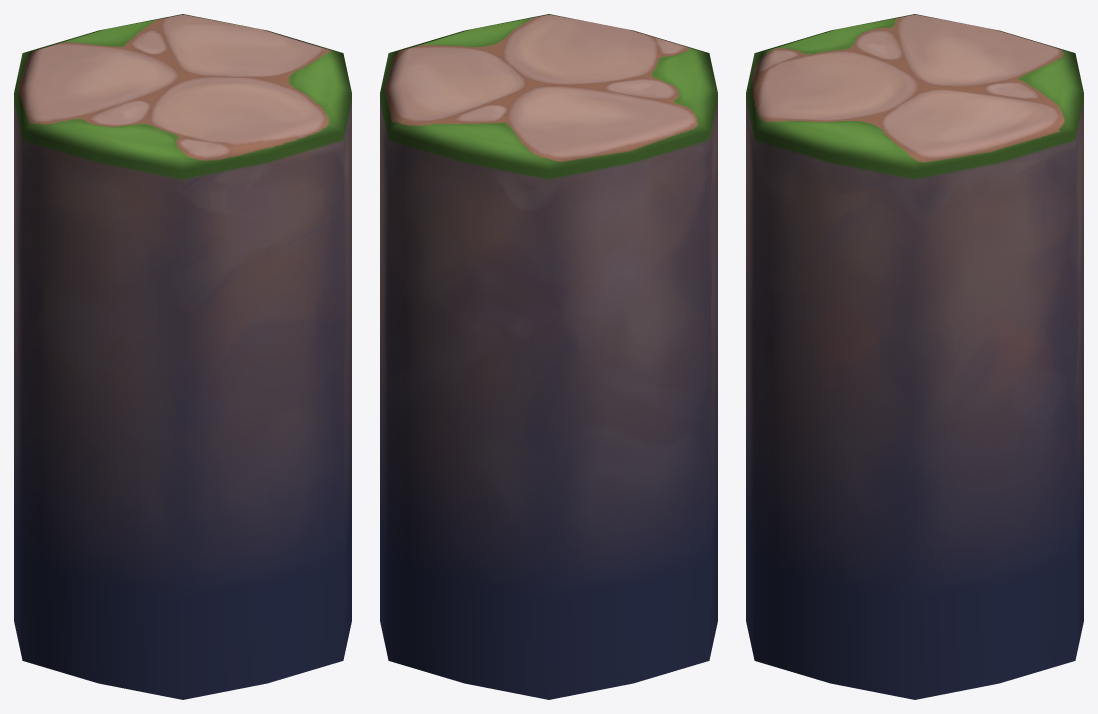
File: S_HexagonIntersection_08.fbx
3 renders of one model, left to right at view 1: azimuth 30°, elevation 25°; view 2: azimuth 150°, elevation 25°; view 3: azimuth 270°, elevation 25°, orthographic.
Visible parts, largest first — view 1: S_HexagonIntersection_08; view 2: S_HexagonIntersection_08; view 3: S_HexagonIntersection_08.
Part boxes in pixels (x1=…): S_HexagonIntersection_08: x1=14, y1=14, x2=351, y2=699; S_HexagonIntersection_08: x1=380, y1=14, x2=717, y2=699; S_HexagonIntersection_08: x1=746, y1=14, x2=1083, y2=699.
Bounding box in the file's own units: 186 × 299 × 170.
Materials: 1 (1 with a texture image).
